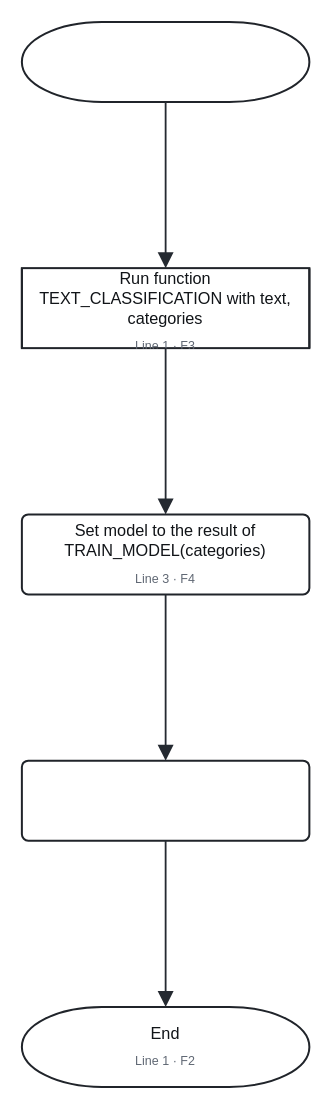
This 333x1110 diagram has some shape labels left out. Each missing label, with the box of its shape:
Return the result of CLASSIFY_TEXT(text, model) Line 5 · F5: (20, 759, 310, 841)
Start Line 1 · F1: (20, 20, 310, 102)
